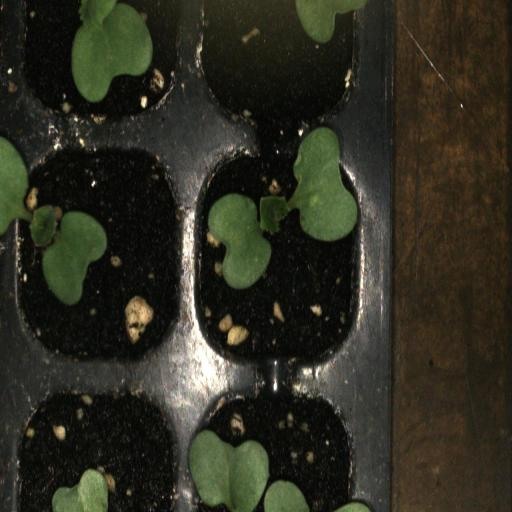Folha: (187, 429, 310, 512), (71, 0, 153, 103), (294, 0, 383, 44), (52, 468, 108, 512)
Germinacao: (182, 131, 381, 381), (6, 131, 184, 382)
